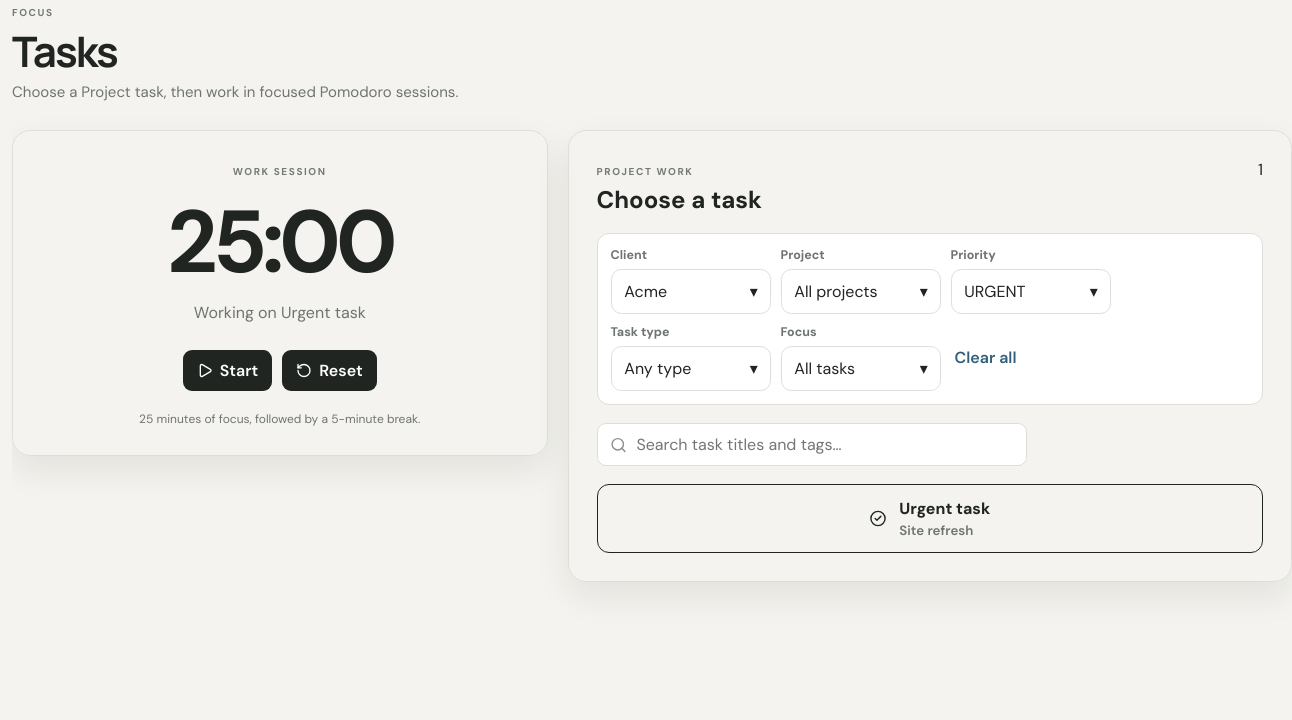
Test: TasksView filters › filters the picker from shareable URL state and constrains projects by client
Expected: the text "Urgent task" is shown, [899, 498, 990, 519]
Click the button with aria-label "Client: Acme" at (690, 292), box [610, 269, 770, 314]
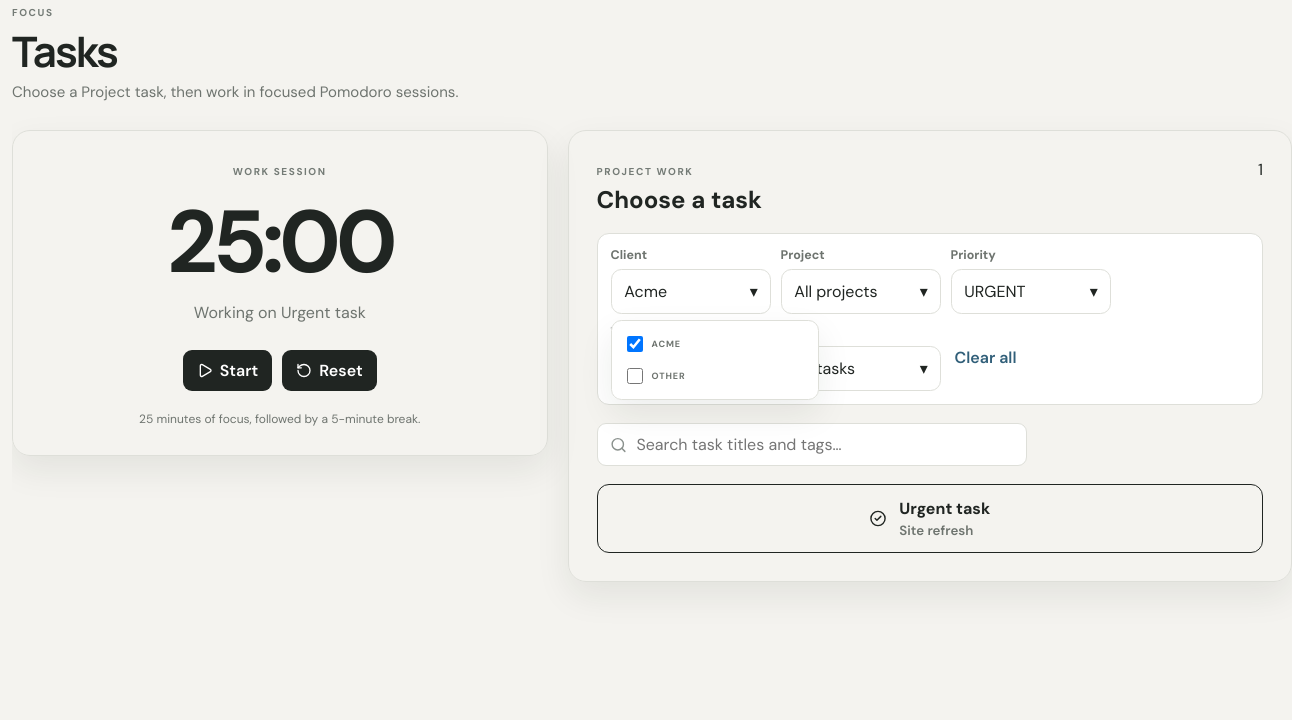
Expected: the text "1" is shown, [1258, 159, 1263, 180]
Now the checkbox labelled "Acme" is checked, box [627, 336, 643, 352]
